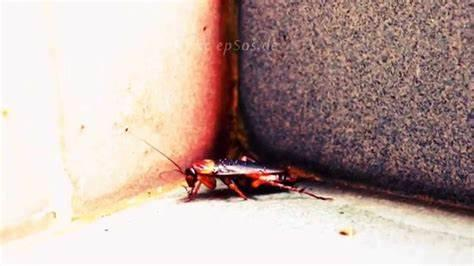cockroach: (169, 154, 320, 200)
